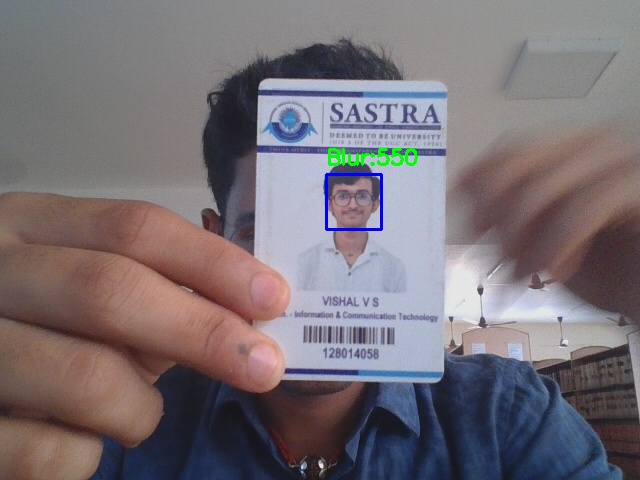fake: (326, 174, 381, 229)
